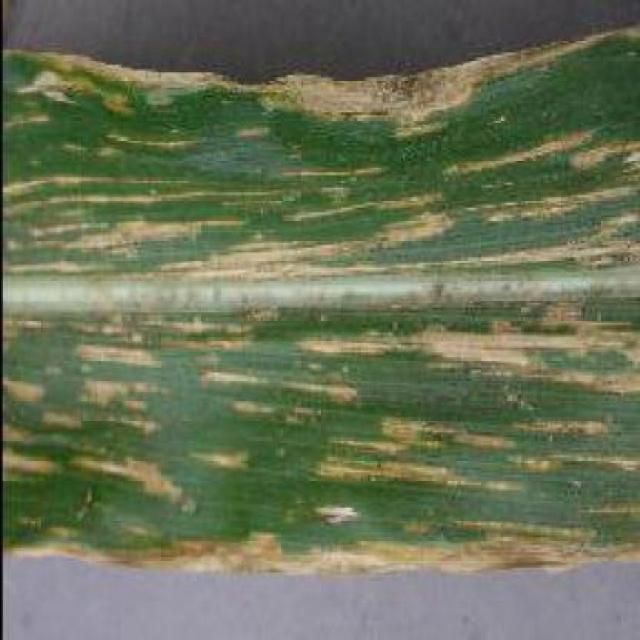Corn_Grey_Leaf_Spot: (6, 50, 640, 572)
